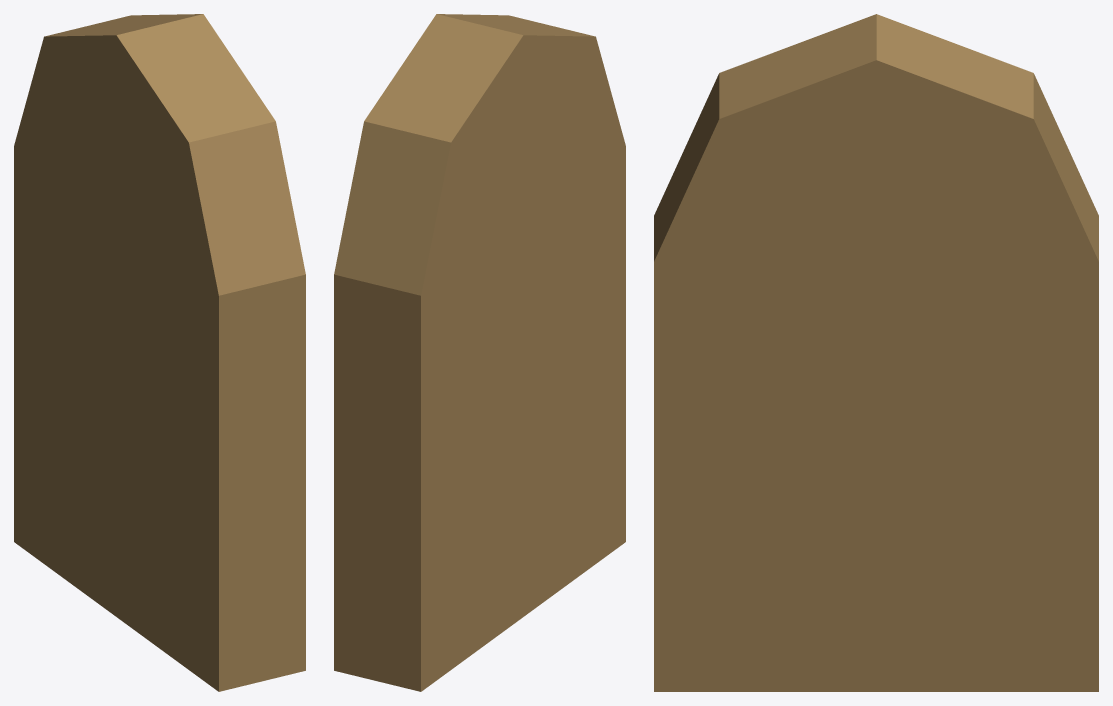
File: wood_door_01.glb
3 renders of one model, left to right at view 1: azimuth 30°, elevation 25°; view 2: azimuth 150°, elevation 25°; view 3: azimuth 270°, elevation 25°, orthographic. The views are drawn at different scales.
Visible parts, largest first — view 1: Mesh1 Wood_Door Model; view 2: Mesh1 Wood_Door Model; view 3: Mesh1 Wood_Door Model.
Part boxes in pixels (x1,y1,x2,y2): Mesh1 Wood_Door Model: (14,14,305,691); Mesh1 Wood_Door Model: (334,14,625,691); Mesh1 Wood_Door Model: (654,14,1098,691).
Size of the model in its own units: 0.3 by 1.92 by 1.22.
